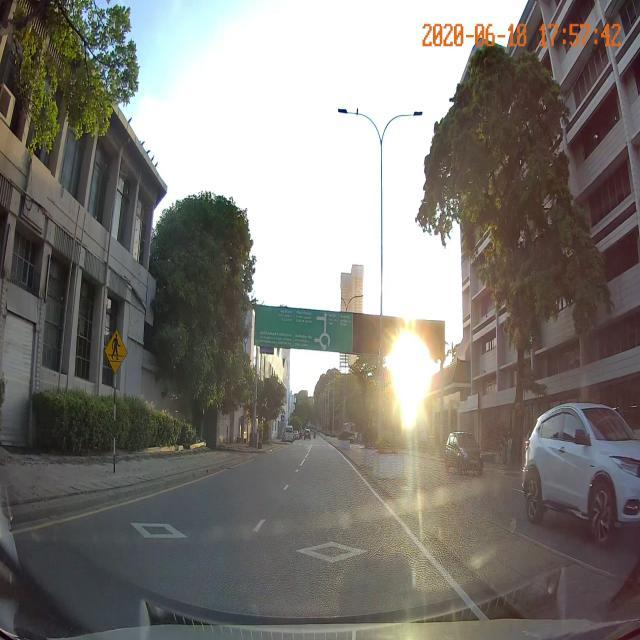diamond: (232, 511, 460, 581)
